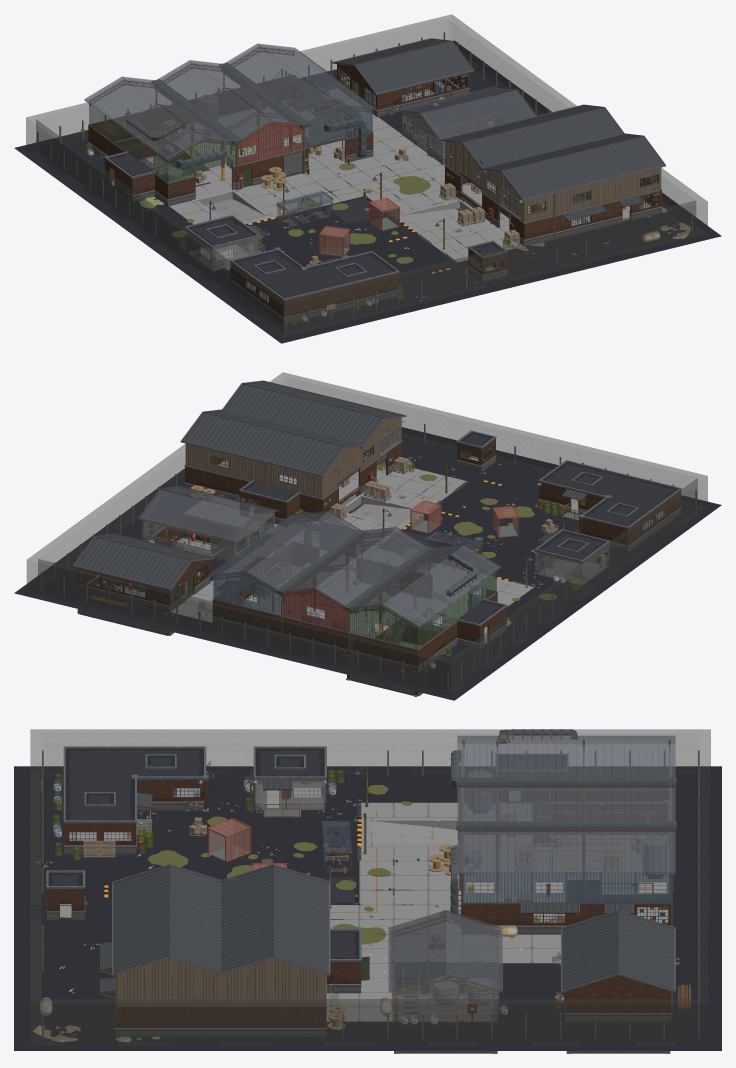
File: chicken_gun-_warehouse.glb
The picture shows the model from 3 angles, top to bottom: view 1: azimuth 30°, elevation 25°; view 2: azimuth 150°, elevation 25°; view 3: azimuth 270°, elevation 25°; orthographic projection. The views are drawn at different scales.
Parts seen in each view (by area): view 1: Object_2, Object_32, Object_21, Object_26, Object_25, Object_11, Object_17, Object_27, Object_6, Object_24, Object_16, Object_8 (+21 smaller); view 2: Object_2, Object_32, Object_21, Object_24, Object_8, Object_10, Object_16, Object_11, Object_22, Object_34, Object_17, Object_6 (+21 smaller); view 3: Object_2, Object_32, Object_15, Object_34, Object_14, Object_26, Object_10, Object_21, Object_11, Object_25, Object_27, Object_24 (+21 smaller).
Part boxes in pixels (x1=…): Object_2: x1=26, y1=14, x2=707, y2=336; Object_32: x1=50, y1=64, x2=657, y2=310; Object_21: x1=102, y1=48, x2=598, y2=323; Object_26: x1=87, y1=80, x2=629, y2=337; Object_25: x1=140, y1=75, x2=653, y2=290; Object_11: x1=224, y1=43, x2=537, y2=165; Object_17: x1=73, y1=41, x2=629, y2=332; Object_27: x1=76, y1=59, x2=666, y2=326; Object_6: x1=156, y1=60, x2=305, y2=166; Object_24: x1=49, y1=44, x2=658, y2=301; Object_16: x1=37, y1=50, x2=575, y2=301; Object_8: x1=88, y1=88, x2=236, y2=183; Object_2: x1=26, y1=372, x2=707, y2=695; Object_32: x1=206, y1=418, x2=655, y2=681; Object_21: x1=78, y1=416, x2=681, y2=695; Object_24: x1=99, y1=409, x2=603, y2=692; Object_8: x1=350, y1=543, x2=501, y2=650; Object_10: x1=143, y1=492, x2=609, y2=605; Object_16: x1=105, y1=422, x2=570, y2=690; Object_11: x1=138, y1=486, x2=344, y2=616; Object_22: x1=118, y1=433, x2=581, y2=700; Object_34: x1=86, y1=380, x2=668, y2=690; Object_17: x1=53, y1=429, x2=696, y2=696; Object_6: x1=281, y1=527, x2=429, y2=633; Object_2: x1=30, y1=729, x2=710, y2=1045; Object_32: x1=14, y1=751, x2=721, y2=1036; Object_15: x1=14, y1=754, x2=691, y2=1050; Object_34: x1=42, y1=746, x2=721, y2=1050; Object_14: x1=63, y1=771, x2=721, y2=1050; Object_26: x1=14, y1=754, x2=690, y2=1053; Object_10: x1=253, y1=772, x2=672, y2=1021; Object_21: x1=42, y1=751, x2=699, y2=1053; Object_11: x1=388, y1=824, x2=675, y2=1021; Object_25: x1=14, y1=766, x2=699, y2=1053; Object_27: x1=14, y1=751, x2=721, y2=1042; Object_24: x1=37, y1=729, x2=721, y2=998.
Size of the model in its own units: 258 by 50.24 by 271.
Materials: 8 (8 with a texture image).
